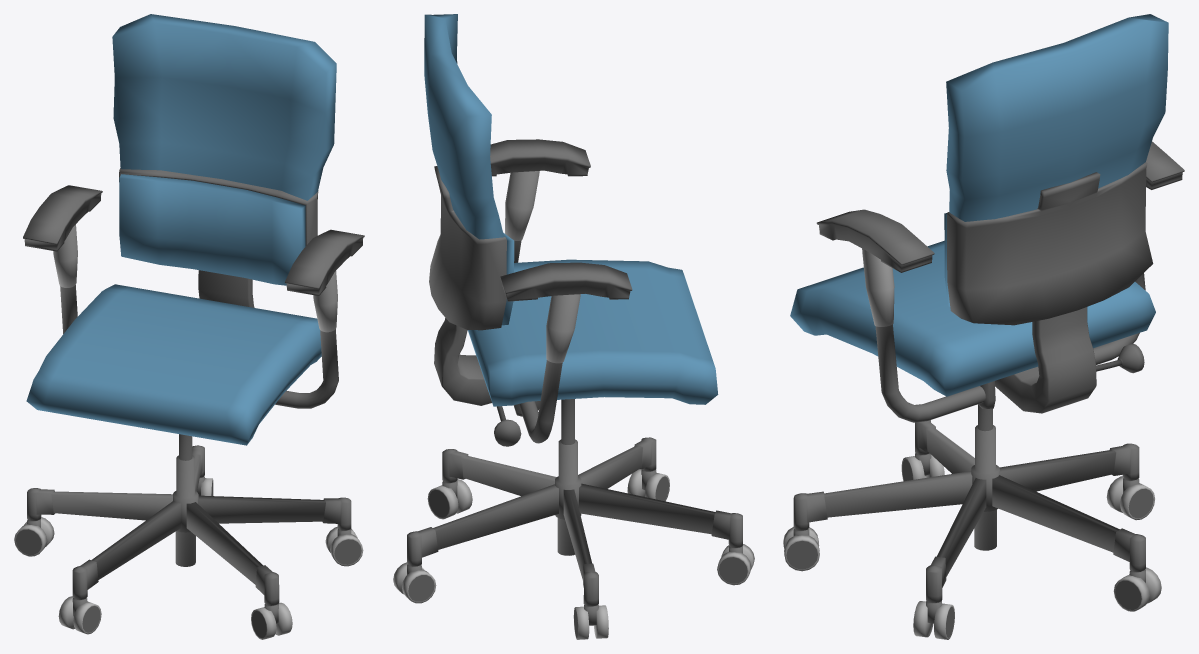
The model's file is chair.dae.
3 views of the same model, side by side, from view 1: azimuth 30°, elevation 25°; view 2: azimuth 150°, elevation 25°; view 3: azimuth 270°, elevation 25° (orthographic). The views are drawn at different scales.
Parts seen in each view (by area): view 1: sillaOfi_respaldo_001, sillaOfi_ruedas_001, sillaOfi_soporte_001; view 2: sillaOfi_respaldo_001, sillaOfi_ruedas_001, sillaOfi_soporte_001; view 3: sillaOfi_respaldo_001, sillaOfi_ruedas_001, sillaOfi_soporte_001.
Boxes of the visible parts, x1,y1,x2,y2 form: sillaOfi_respaldo_001: [23, 14, 364, 445]; sillaOfi_ruedas_001: [14, 445, 363, 639]; sillaOfi_soporte_001: [53, 224, 338, 566]; sillaOfi_respaldo_001: [424, 14, 718, 416]; sillaOfi_ruedas_001: [393, 437, 754, 639]; sillaOfi_soporte_001: [494, 171, 581, 555]; sillaOfi_respaldo_001: [790, 14, 1184, 413]; sillaOfi_ruedas_001: [783, 420, 1161, 639]; sillaOfi_soporte_001: [862, 248, 1145, 550].
Bounding box in the file's own units: 0.7615 × 0.7733 × 1.19.
